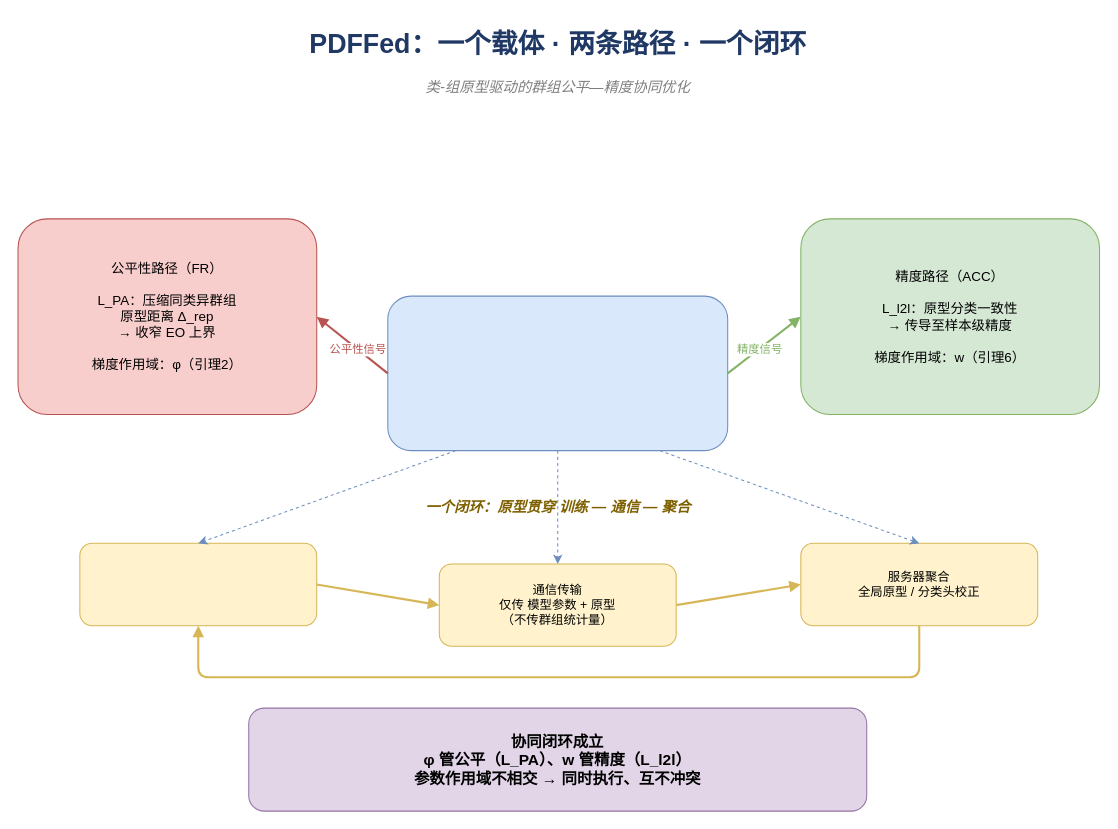
The diagram is 1118 pixels wide and 829 high, and some of its shapes have lost their labels. The shapes that lost their labels are listed below. From the top down, each one's box as (x1, y1, x2, y2) in pixels, then its label:
(387, 295, 728, 451): 类-组原型（CG Proto） 统一知识载体 同时编码 类别 × 群组 分布信息
(79, 542, 317, 626): 客户端局部训练 L_PA + L_l2l 同时执行
